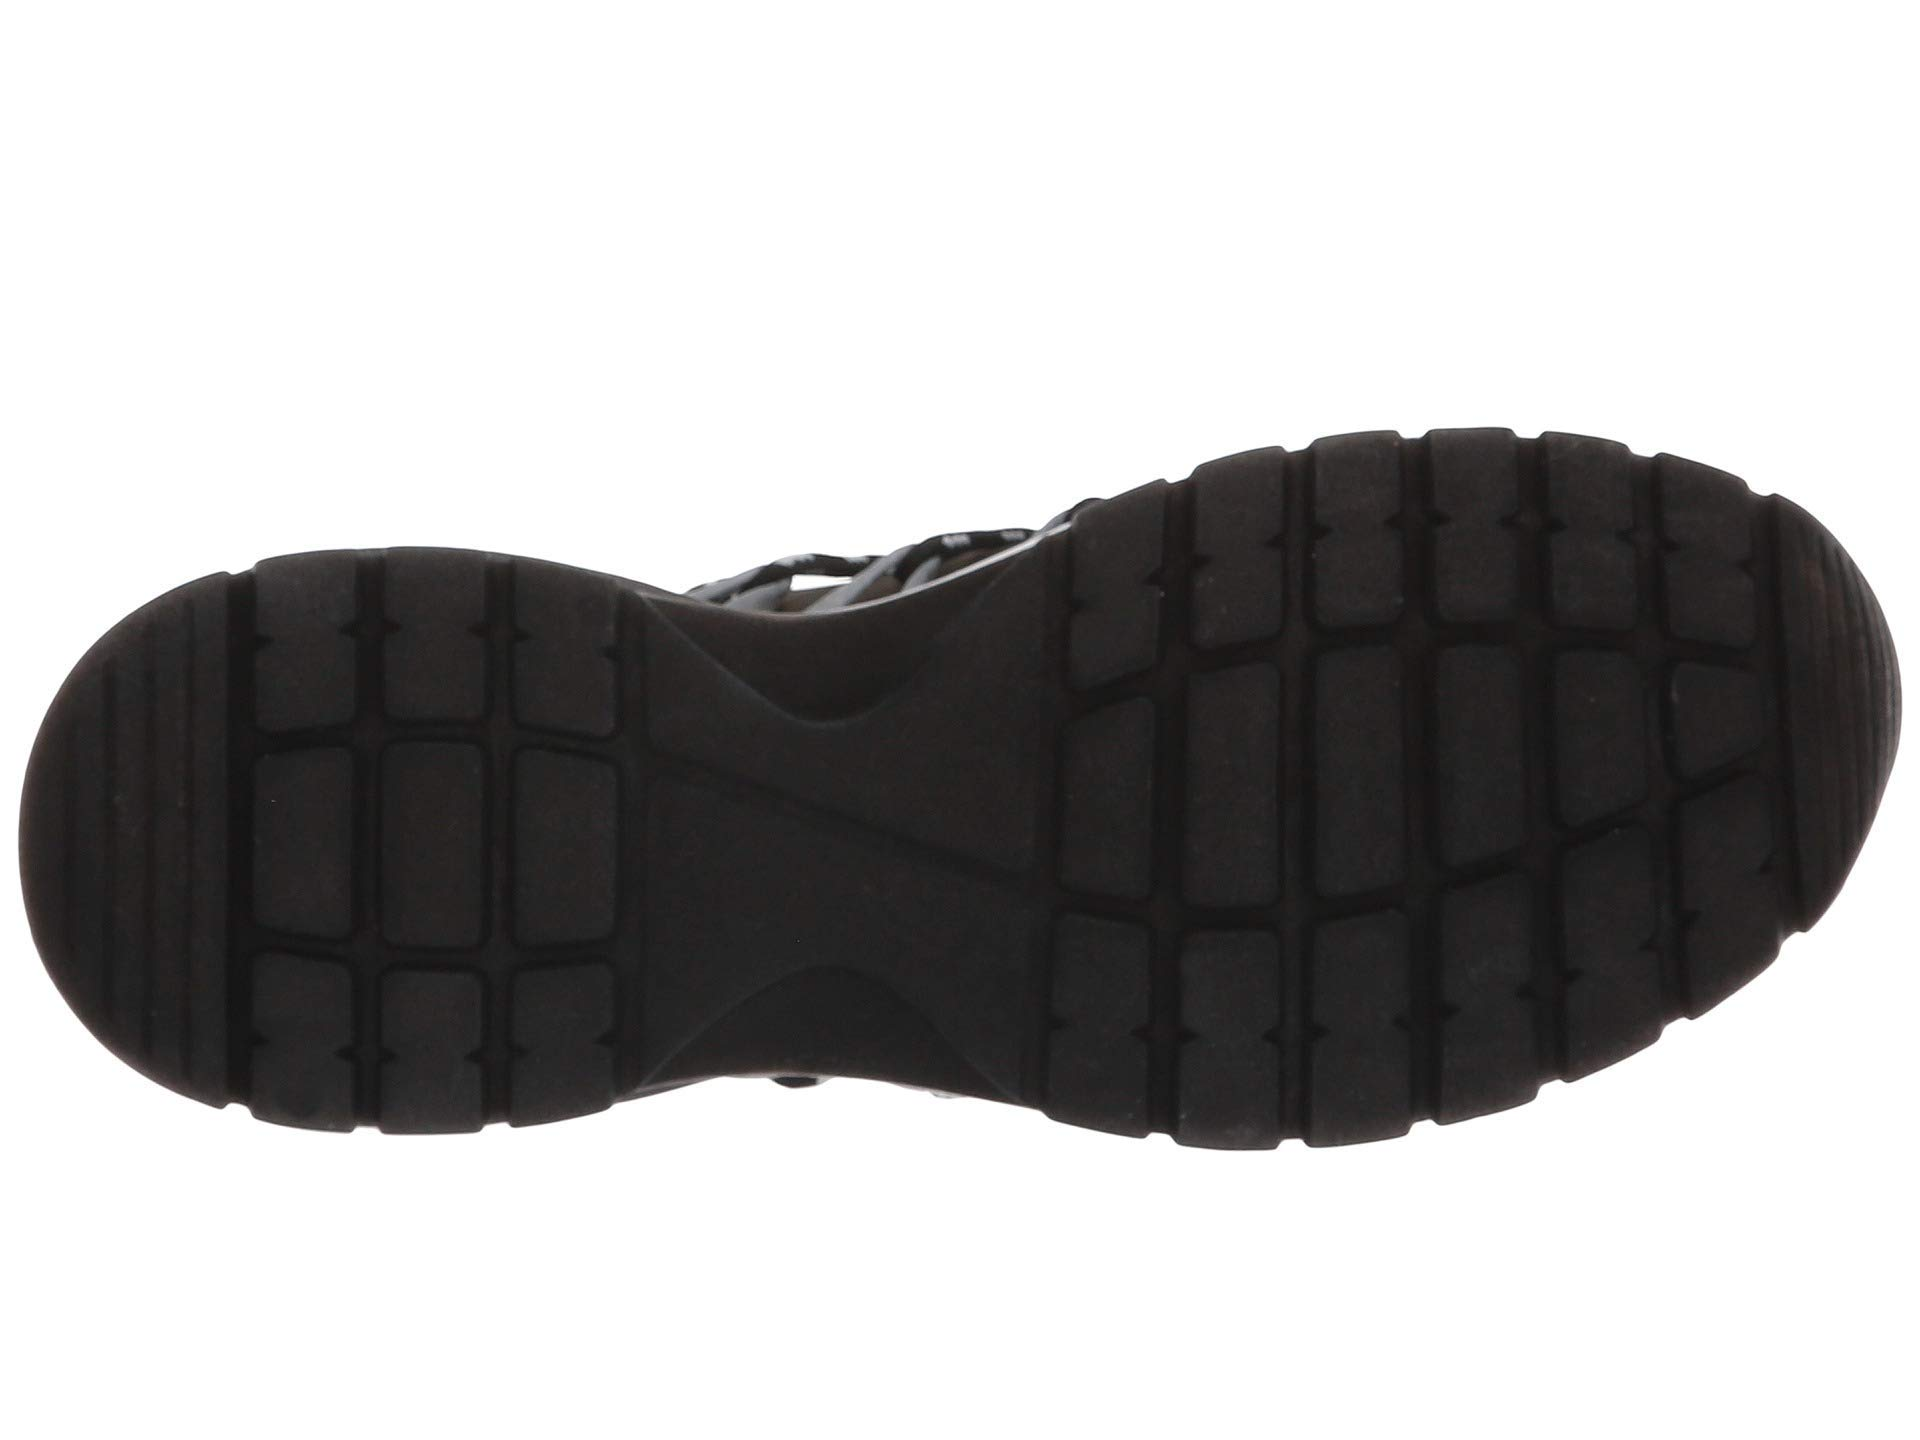bowtie: (1533, 806, 1840, 1103), (224, 936, 494, 1215), (234, 523, 531, 774), (1516, 362, 1773, 643), (1299, 405, 1541, 650)
line: (36, 717, 234, 923)
quad: (1155, 653, 1451, 982), (224, 936, 494, 1215), (234, 523, 531, 774), (1516, 362, 1773, 643), (1299, 405, 1541, 650)
